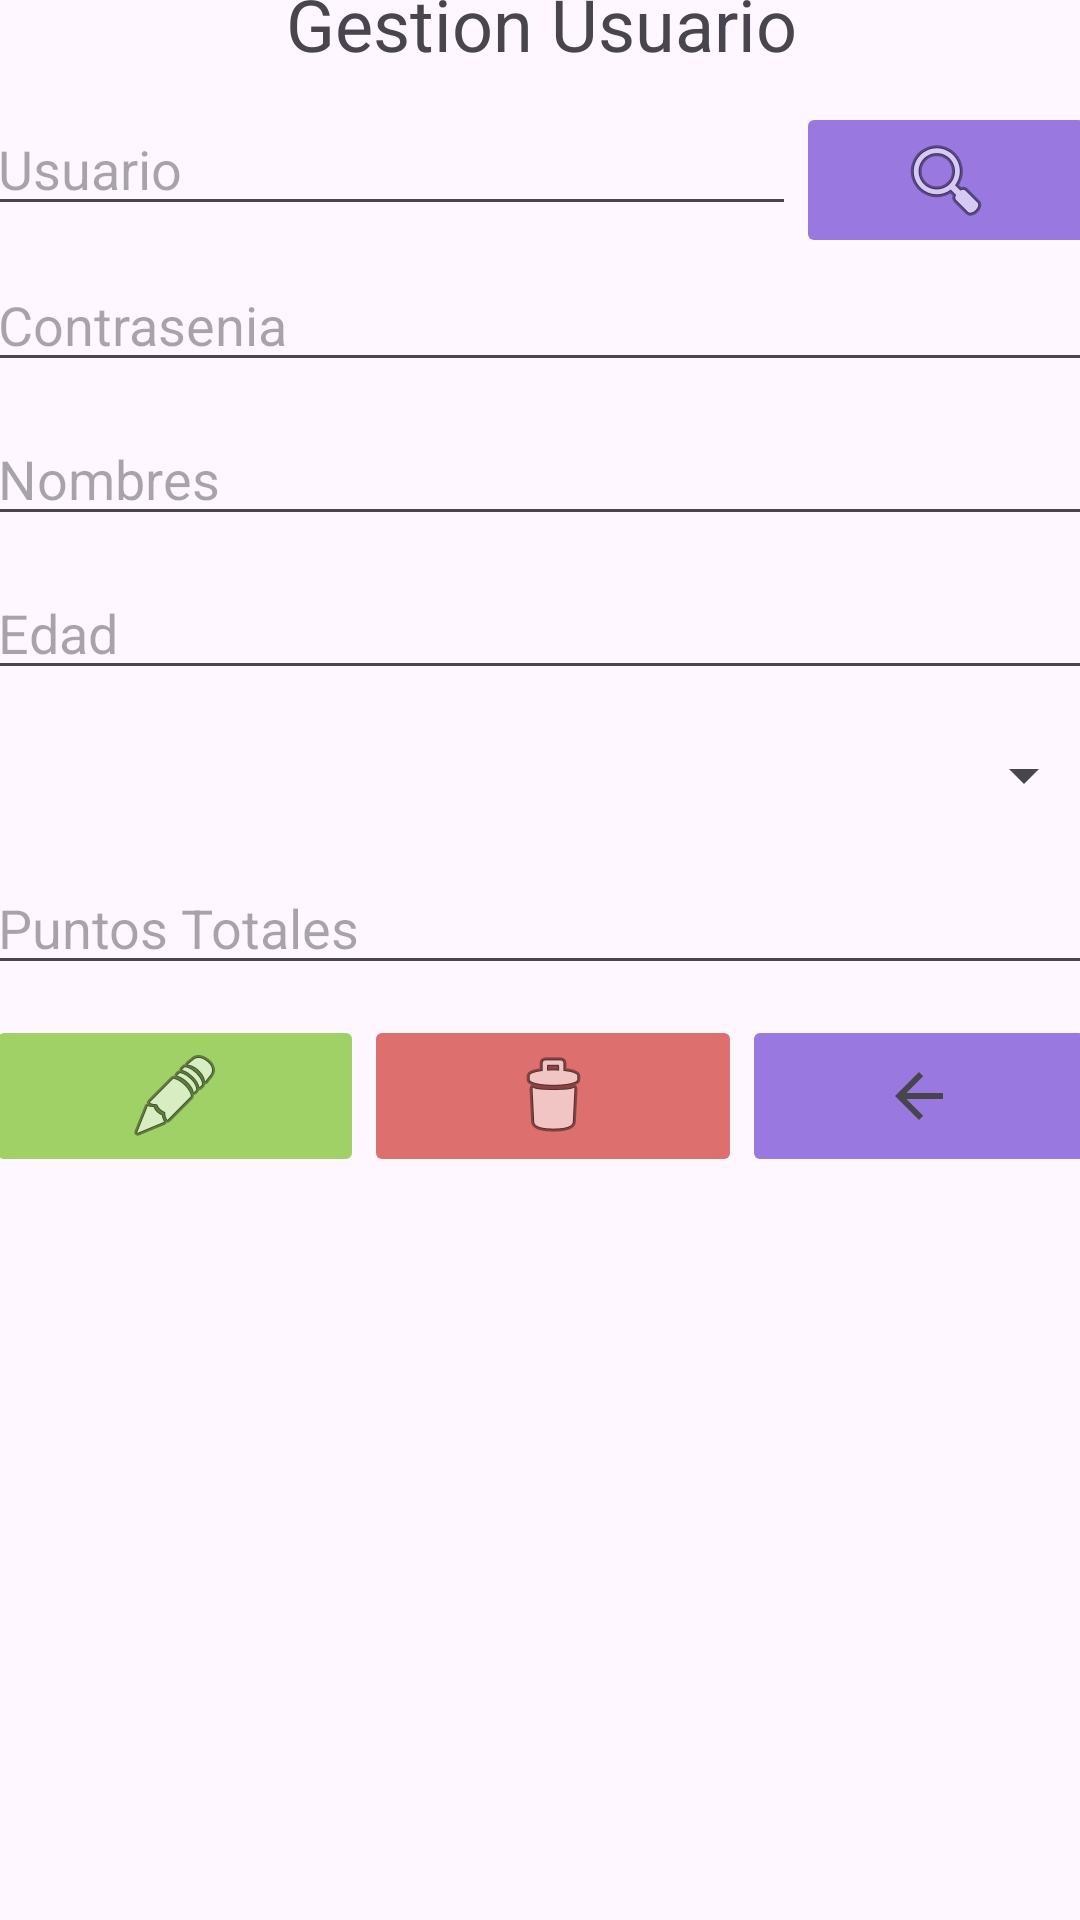

Where to tap for icons on this 1080 x 1920 app screen, as point (x, y):
delete: point (553, 1096)
edit: point (176, 1096)
search: point (944, 180)
